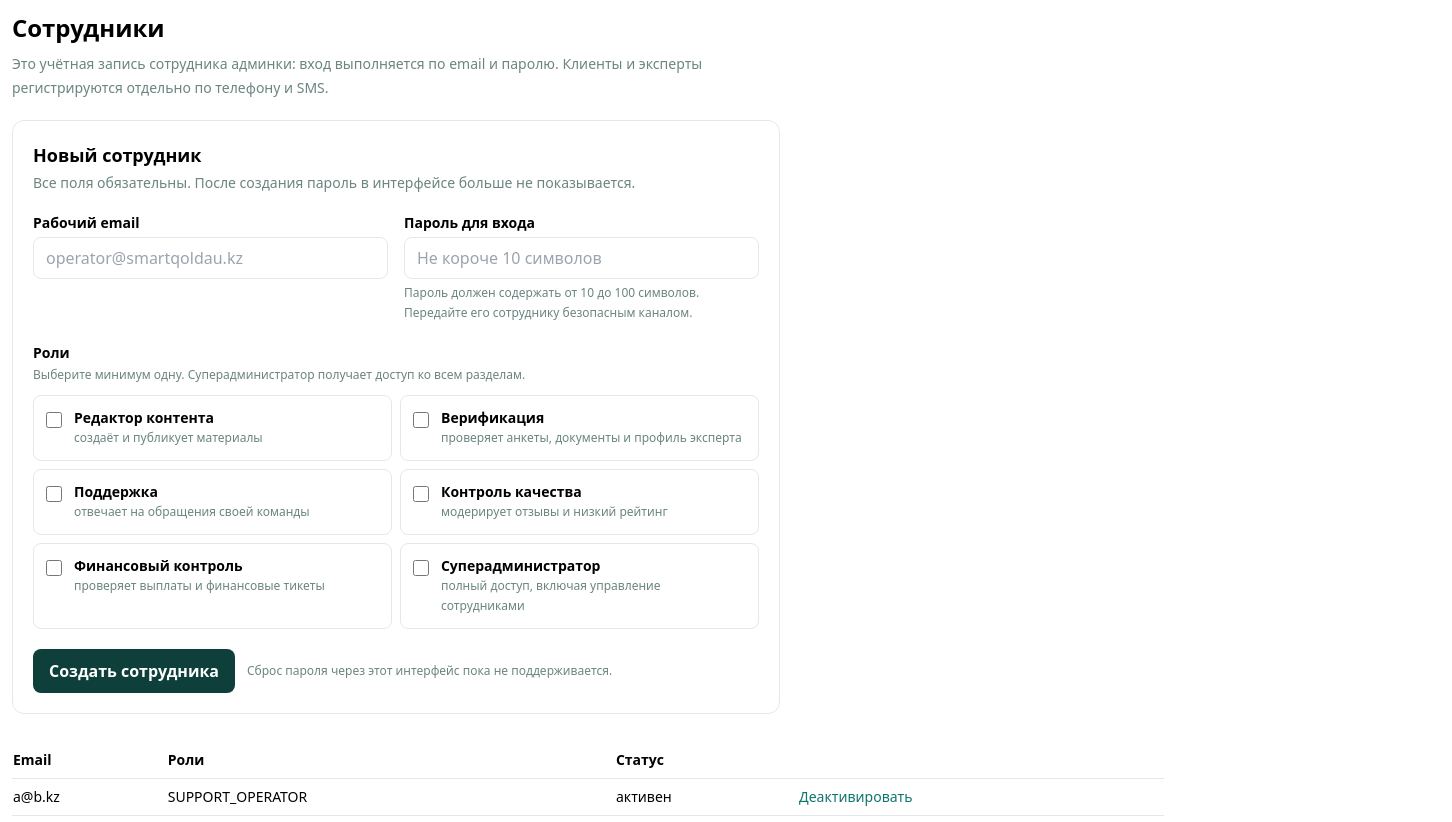
StaffPage › показывает ошибку при неудачном изменении статуса
Expected: the text "a@b.kz" is shown, [12, 778, 167, 816]
Click the button "Деактивировать". click: [856, 797]
box: [799, 787, 912, 807]
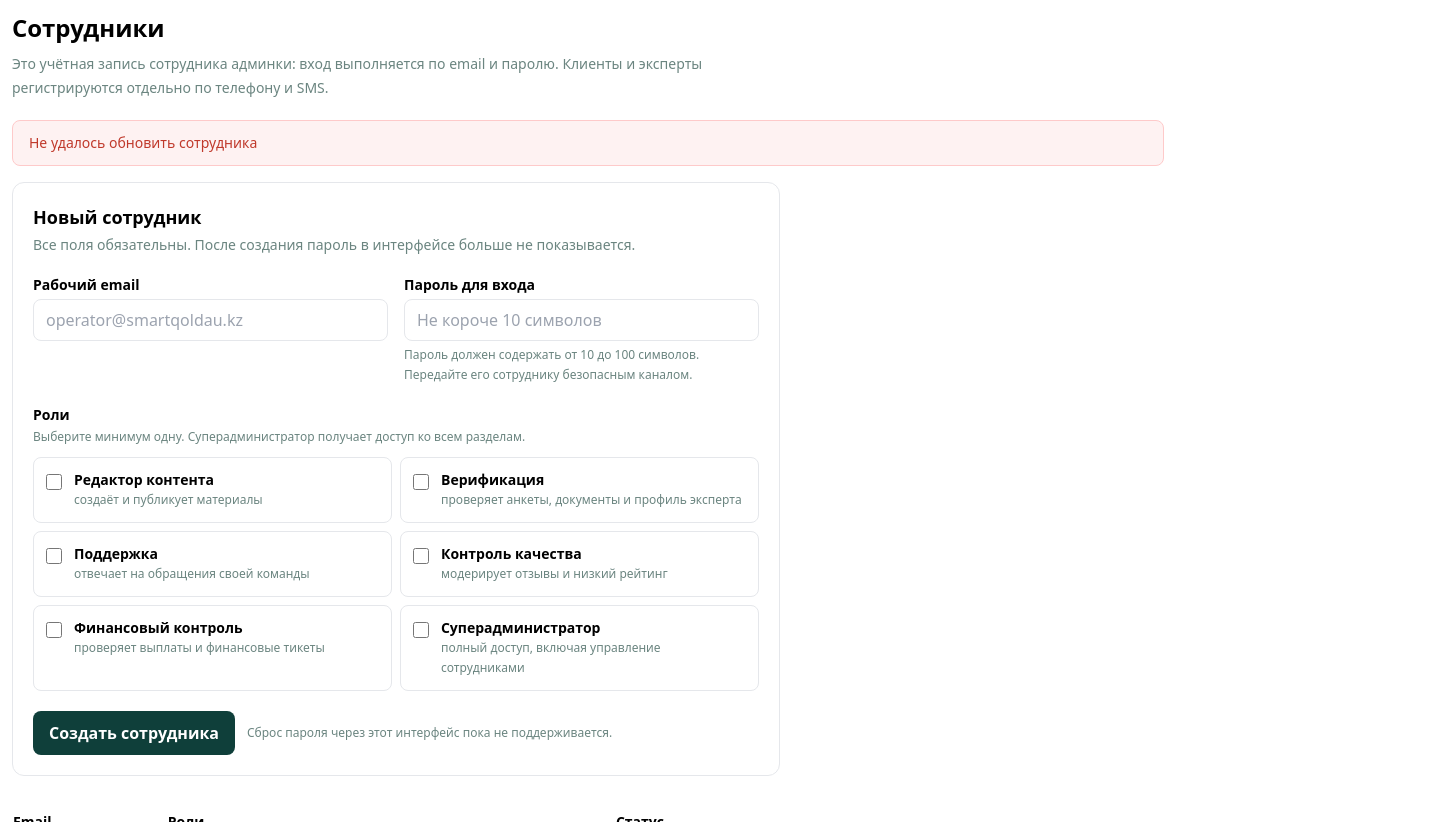
Expected: the text "Не удалось обновить сотрудника" is shown, [12, 120, 1164, 166]
